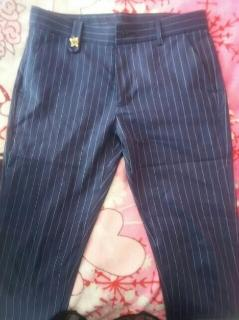trousers: (0, 5, 239, 319)
